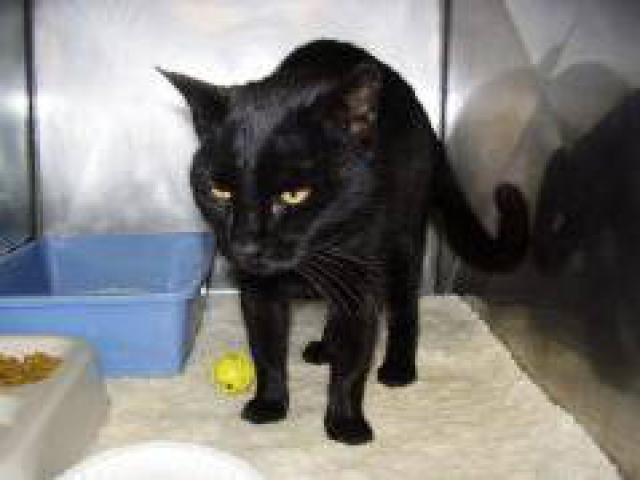cat: (148, 39, 513, 445)
